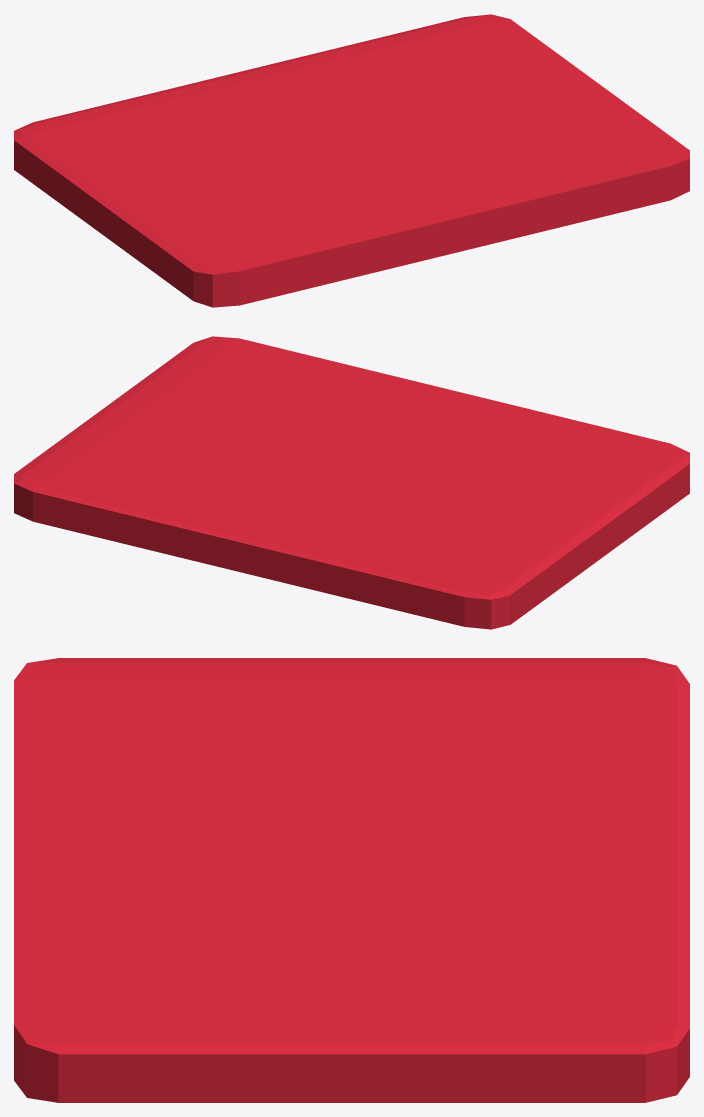
File: cooler_lid.fbx
The picture shows the model from 3 angles, top to bottom: view 1: azimuth 30°, elevation 25°; view 2: azimuth 150°, elevation 25°; view 3: azimuth 270°, elevation 25°; orthographic projection. The views are drawn at different scales.
Parts seen in each view (by area): view 1: Cube.002; view 2: Cube.002; view 3: Cube.002.
Part boxes in pixels (x1,y1,x2,y2): Cube.002: (14,14,689,307); Cube.002: (14,336,689,629); Cube.002: (14,658,689,1102).
Bounding box in the file's own units: 85.63 × 5.64 × 61.74.
